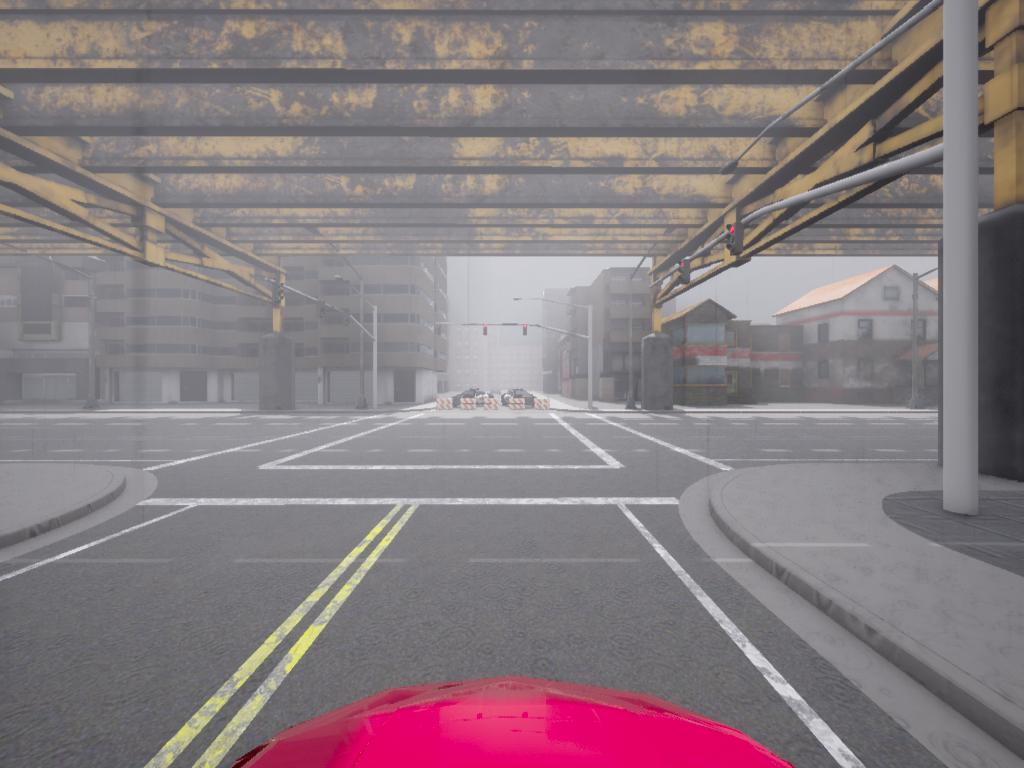traffic_light: (727, 223, 744, 259), (676, 258, 692, 288), (274, 282, 285, 310), (317, 298, 328, 323), (435, 324, 444, 338), (348, 310, 354, 329), (482, 325, 489, 338), (524, 325, 529, 338)
